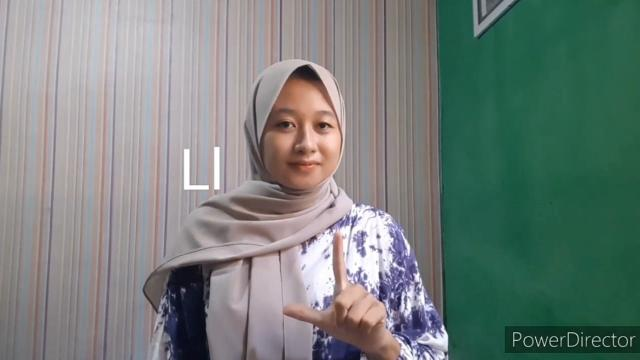L: (281, 233, 387, 347)
